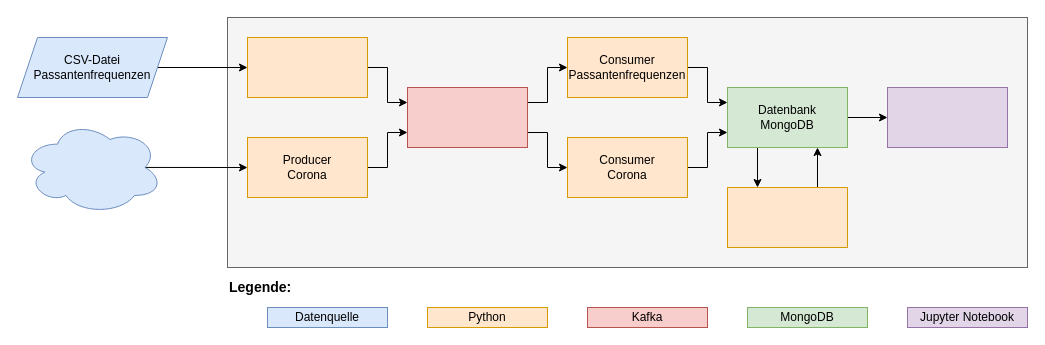
Image size: 1045x345. Some labels were removed from this diagram. The shapes that lost their labels are listed below. From the top down, each one's centre as x and y in pixels, then its label:
At (307,67): "Producer Passantenfrequenzen".
At (467,117): "Datenstream Kafka".
At (947,117): "Auswertung Jupyter Notebook".
At (92,167): "COVID-19-API".
At (787,217): "Transformer Corona".
